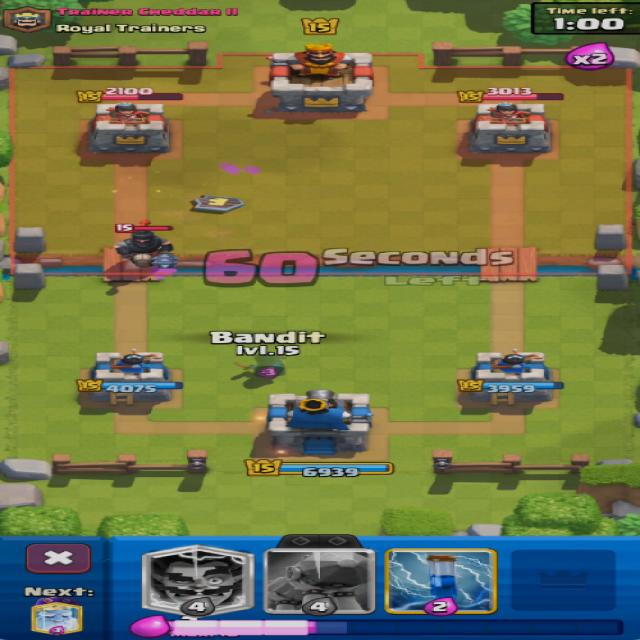Enemy-DarkPrince: (116, 230, 177, 268)
Enemy-KingTower: (270, 44, 372, 113)
Enemy-PrincessTower: (88, 102, 170, 153), (470, 102, 550, 154)
